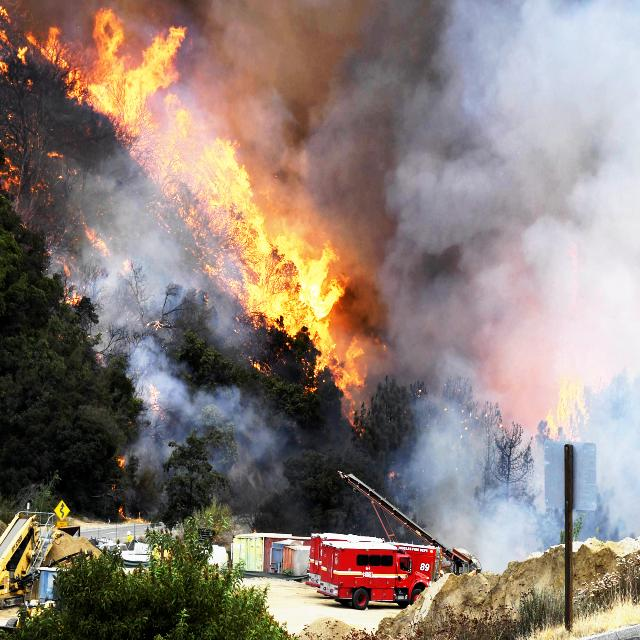api: (55, 1, 369, 399)
asap: (208, 1, 640, 592), (1, 1, 311, 559)
